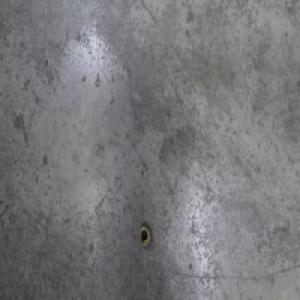Nut: (137, 221, 151, 248)
